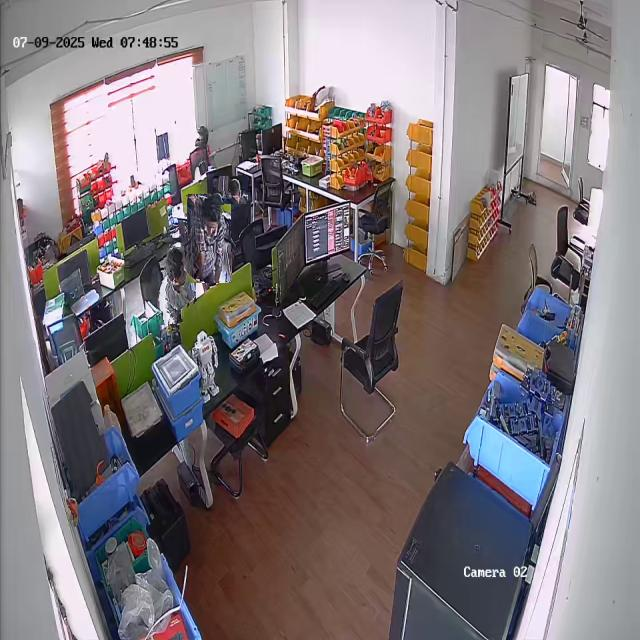person: (187, 194, 232, 283), (152, 247, 197, 325), (214, 176, 248, 205)
